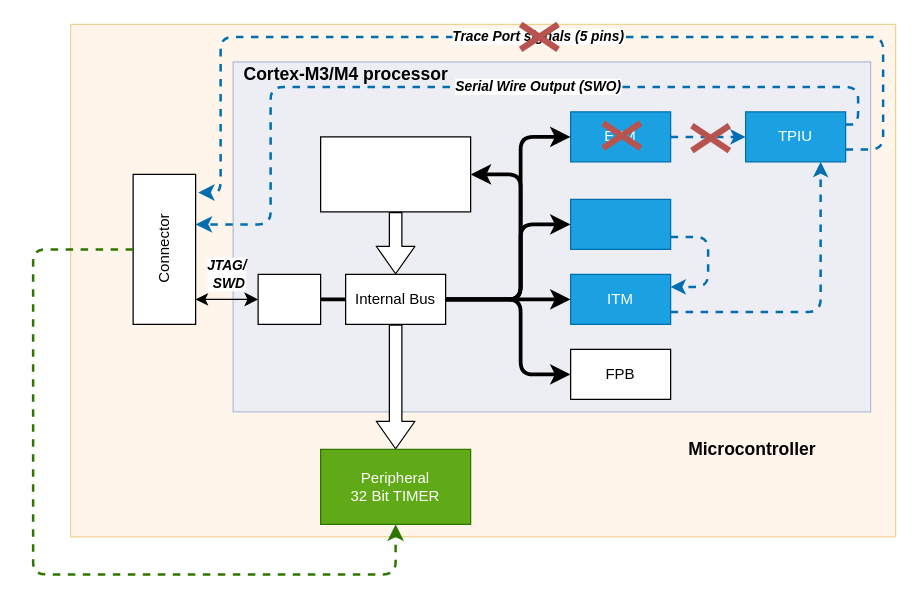
The diagram is 918 pixels wide and 609 high, and some of its shapes have lost their labels. The shapes that lost their labels are listed below. From the top down, each one's centre as x and y in pixels, then its label:
the point at 395,174: Processor Core
the point at 620,223: DWT
the point at 289,298: Bridge
